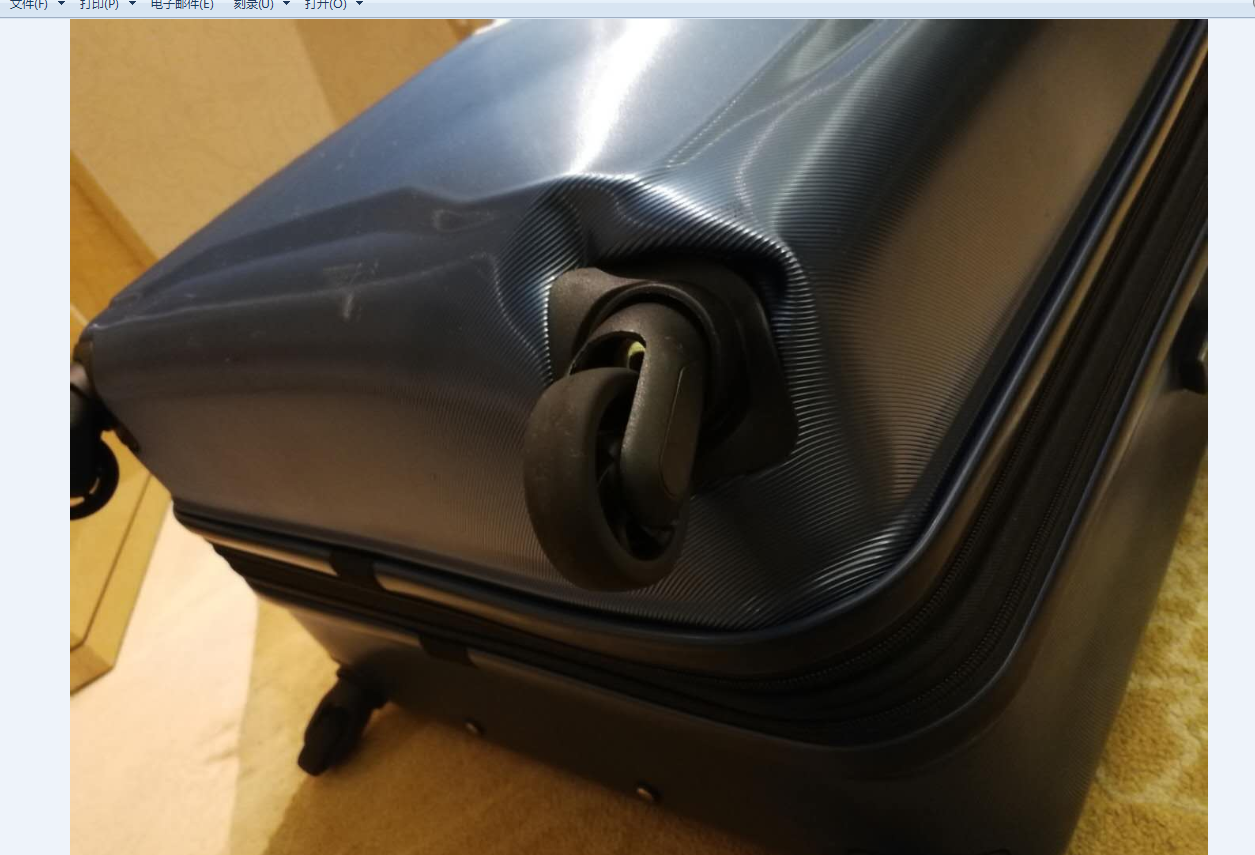hollow: (524, 170, 820, 331)
